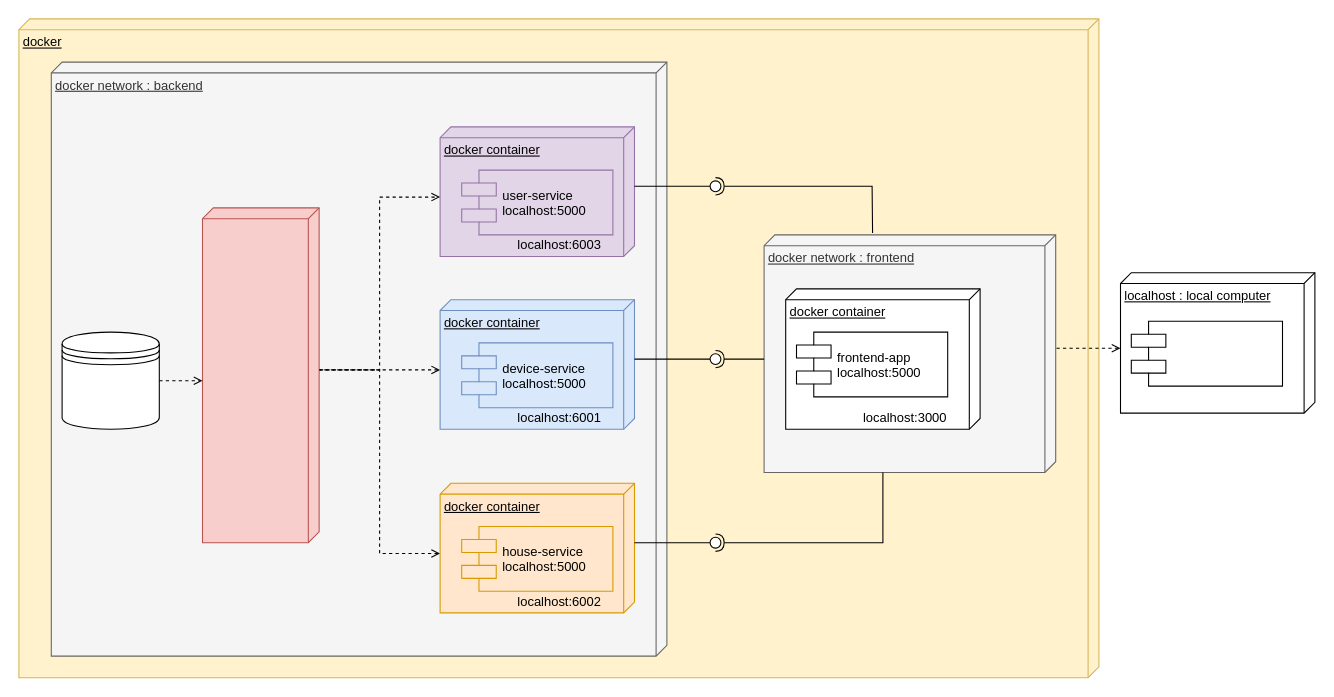
This 1334x697 diagram has some shape labels left out. The shapes that lost their labels are listed below. From the top down, each one's centre as x and y in pixels, then its label:
[1206,353]: web browser
[110,380]: Data Storage MySQL
[260,375]: Interfaz Común Acceso Datos
